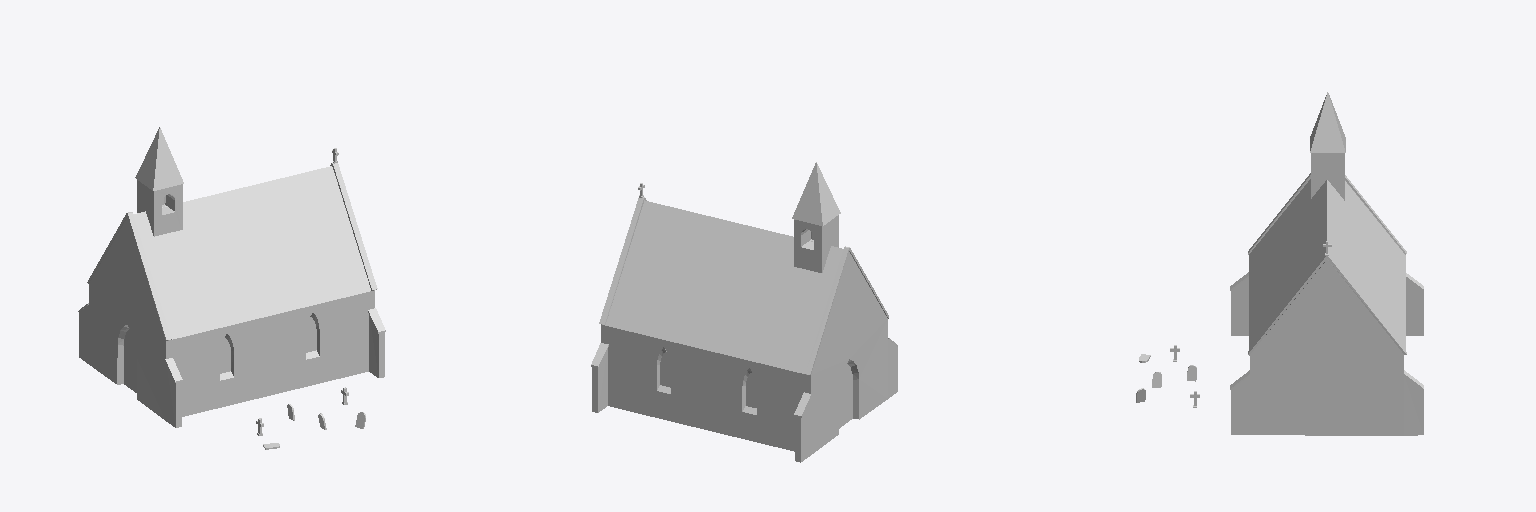
File: chapel.obj
The picture shows the model from 3 angles: view 1: azimuth 30°, elevation 25°; view 2: azimuth 150°, elevation 25°; view 3: azimuth 270°, elevation 25°; orthographic projection.
Parts seen in each view (by area): view 1: Chapel; view 2: Chapel; view 3: Chapel.
Boxes of the visible parts, <box> form: Chapel: <box>78,127,385,449</box>; Chapel: <box>591,162,897,462</box>; Chapel: <box>1136,92,1423,435</box>.
Size of the model in its own units: 1157 by 1357 by 1367.